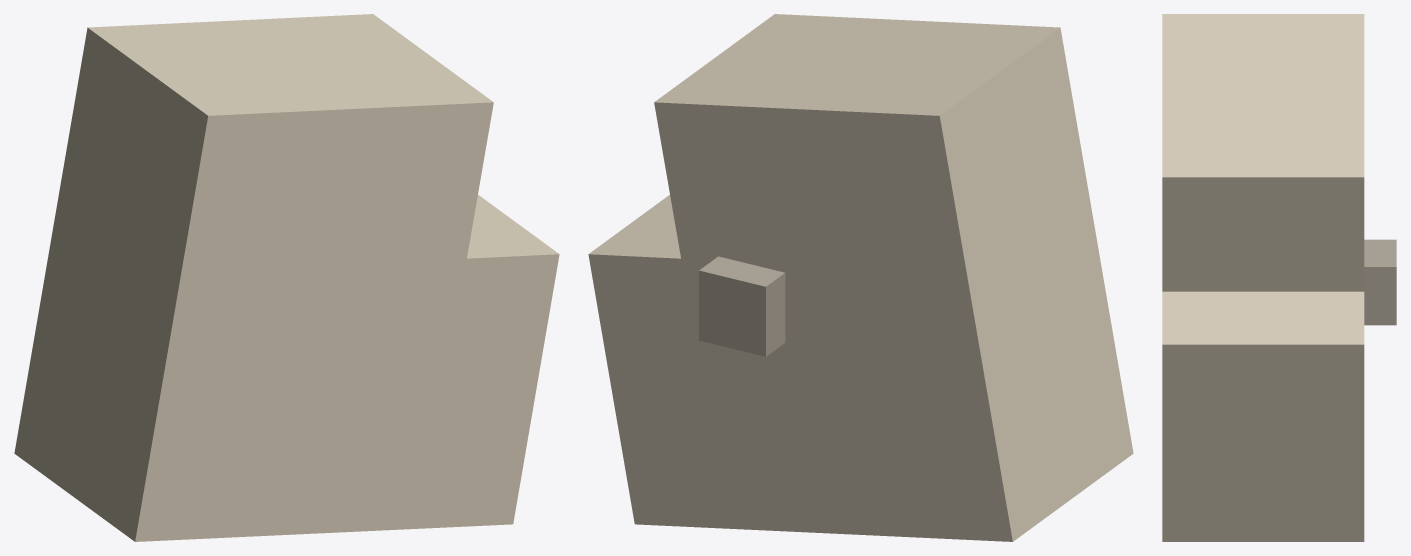
Rendered from historic-palestine-07_18_3489_3127.glb.
3 views of the same model, side by side, from view 1: azimuth 30°, elevation 25°; view 2: azimuth 150°, elevation 25°; view 3: azimuth 270°, elevation 25° (orthographic). The views are drawn at different scales.
Parts seen in each view (by area): view 1: Building_; view 2: Building_, Roof access hut; view 3: Building_, Roof access hut.
Part boxes in pixels (bbox=[...]): Building_: bbox=[14, 14, 559, 541]; Building_: bbox=[588, 14, 1133, 541]; Roof access hut: bbox=[699, 256, 785, 356]; Building_: bbox=[1162, 14, 1364, 541]; Roof access hut: bbox=[1364, 239, 1396, 325].
Size of the model in its own units: 15.23 by 16.55 by 8.7.
